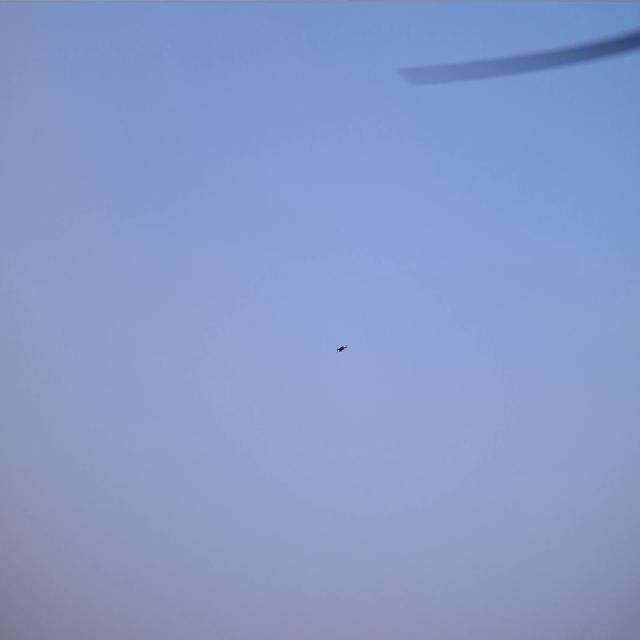UAV: (337, 346, 346, 351)
